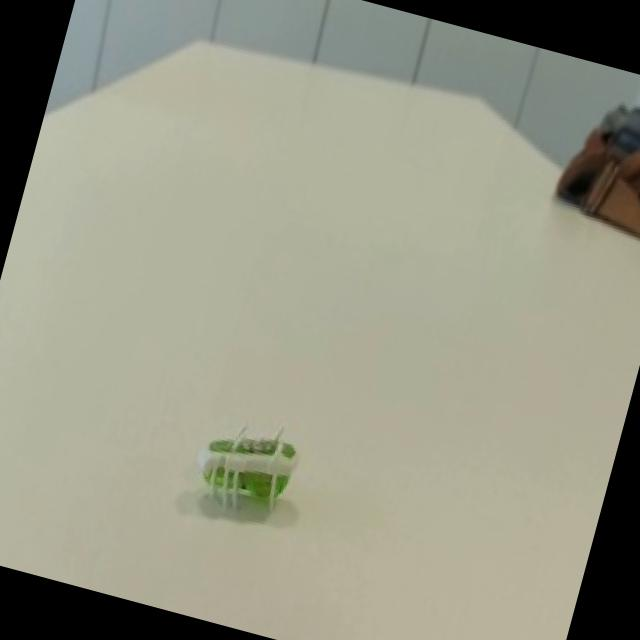4_NanoBug_Blanco: (148, 362, 366, 590)
